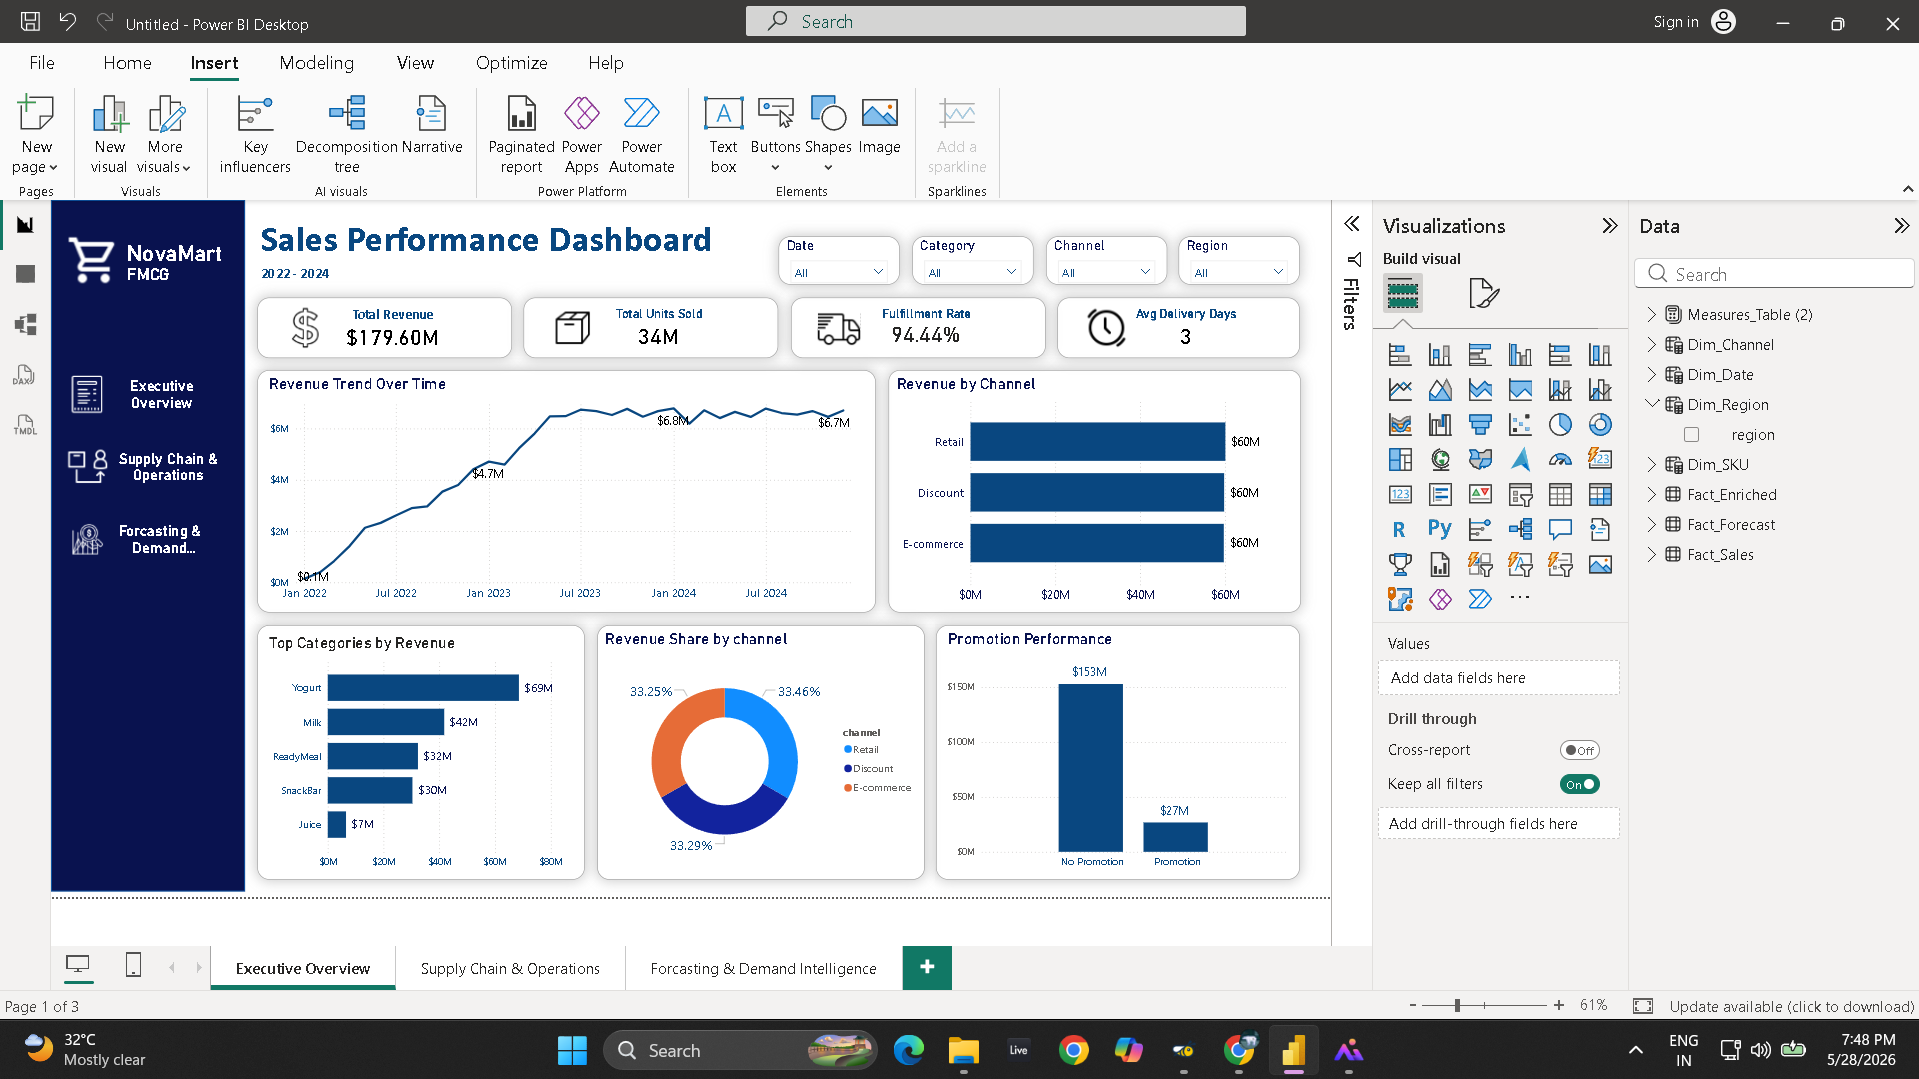

What the dashboard file says about the page in this screenshot:
{"tool":"powerbi","page":{"name":"Executive Overview","canvas":[1688,920],"ordinal":0},"visuals":[{"type":"textbox","box":[272,16,624,80],"z":0},{"type":"textbox","box":[272,80,144,32],"z":1000},{"type":"shape","box":[0,-8,256,928],"z":2000},{"type":"card","title":"Total Revenue","fields":{"Values":["Measures_Table (2).Total_Revenue"]},"box":[272,128,336,80],"z":3000},{"type":"card","title":"Total Units Sold","fields":{"Values":["Measures_Table (2).Total_Units"]},"box":[624,128,336,80],"z":4000},{"type":"card","title":"Fulfillment Rate","fields":{"Values":["Measures_Table (2).Fulfillment_Rate"]},"box":[976,128,336,80],"z":5000},{"type":"card","title":"Avg Delivery Days","fields":{"Values":["Measures_Table (2).Avg_Delivery_Days"]},"box":[1328,128,320,80],"z":6000},{"type":"textbox","box":[96,48,144,48],"z":7000},{"type":"actionButton","box":[16,32,80,96],"z":8000},{"type":"textbox","box":[96,80,96,48],"z":9000},{"type":"actionButton","box":[304,128,64,80],"z":10000},{"type":"actionButton","box":[656,128,64,80],"z":11000},{"type":"actionButton","box":[1008,128,64,80],"z":12000},{"type":"actionButton","box":[1360,128,64,80],"z":13000},{"type":"lineChart","title":"Revenue Trend Over Time","fields":{"Y":["Measures_Table (2).Total_Revenue"],"Category":["Dim_Date.Date.Variation.Date Hierarchy.Year","Dim_Date.Date.Variation.Date Hierarchy.Month"]},"box":[272,224,816,320],"z":14000},{"type":"clusteredBarChart","title":"Revenue by Channel","fields":{"Category":["Dim_Channel.channel"],"Y":["Measures_Table (2).Total_Revenue"]},"box":[1104,224,544,320],"z":15000},{"type":"clusteredBarChart","title":"Top Categories by Revenue","fields":{"Category":["Dim_SKU.category"],"Y":["Measures_Table (2).Total_Revenue"]},"box":[272,560,432,336],"z":16000},{"type":"clusteredColumnChart","title":"Promotion Performance","fields":{"Category":["Fact_Sales.Promotion_Type"],"Y":["Measures_Table (2).Total_Revenue"]},"box":[1168,560,480,336],"z":17000},{"type":"donutChart","title":"Revenue Share by channel","fields":{"Category":["Dim_Channel.channel"],"Y":["Measures_Table (2).Total_Revenue"]},"box":[720,560,432,336],"z":18000},{"type":"slicer","title":"Date","fields":{"Values":["Dim_Date.Date"]},"box":[960,48,160,64],"z":19000},{"type":"slicer","title":"Category","fields":{"Values":["Dim_SKU.category"]},"box":[1136,48,160,64],"z":20000},{"type":"slicer","title":"Channel","fields":{"Values":["Dim_Channel.channel"]},"box":[1312,48,160,64],"z":21000},{"type":"slicer","title":"Region","fields":{"Values":["Dim_Region.region"]},"box":[1488,48,160,64],"z":22000},{"type":"actionButton","box":[16,320,208,64],"z":23000},{"type":"actionButton","box":[16,224,208,64],"z":24000},{"type":"actionButton","box":[16,416,208,64],"z":25000}]}

Visuals, with their boxes on the page's 1688x920 design canvas (x1, y1, x2, y2). These are canvas units, not pixel positions in the 1919x1079 screenshot, which may show the page scaled, cropped or inside an application window:
textbox: x1=272 y1=16 x2=896 y2=96
textbox: x1=272 y1=80 x2=416 y2=112
shape: x1=0 y1=-8 x2=256 y2=920
"Total Revenue" card: x1=272 y1=128 x2=608 y2=208
"Total Units Sold" card: x1=624 y1=128 x2=960 y2=208
"Fulfillment Rate" card: x1=976 y1=128 x2=1312 y2=208
"Avg Delivery Days" card: x1=1328 y1=128 x2=1648 y2=208
textbox: x1=96 y1=48 x2=240 y2=96
actionButton: x1=16 y1=32 x2=96 y2=128
textbox: x1=96 y1=80 x2=192 y2=128
actionButton: x1=304 y1=128 x2=368 y2=208
actionButton: x1=656 y1=128 x2=720 y2=208
actionButton: x1=1008 y1=128 x2=1072 y2=208
actionButton: x1=1360 y1=128 x2=1424 y2=208
"Revenue Trend Over Time" lineChart: x1=272 y1=224 x2=1088 y2=544
"Revenue by Channel" clusteredBarChart: x1=1104 y1=224 x2=1648 y2=544
"Top Categories by Revenue" clusteredBarChart: x1=272 y1=560 x2=704 y2=896
"Promotion Performance" clusteredColumnChart: x1=1168 y1=560 x2=1648 y2=896
"Revenue Share by channel" donutChart: x1=720 y1=560 x2=1152 y2=896
"Date" slicer: x1=960 y1=48 x2=1120 y2=112
"Category" slicer: x1=1136 y1=48 x2=1296 y2=112
"Channel" slicer: x1=1312 y1=48 x2=1472 y2=112
"Region" slicer: x1=1488 y1=48 x2=1648 y2=112
actionButton: x1=16 y1=320 x2=224 y2=384
actionButton: x1=16 y1=224 x2=224 y2=288
actionButton: x1=16 y1=416 x2=224 y2=480
